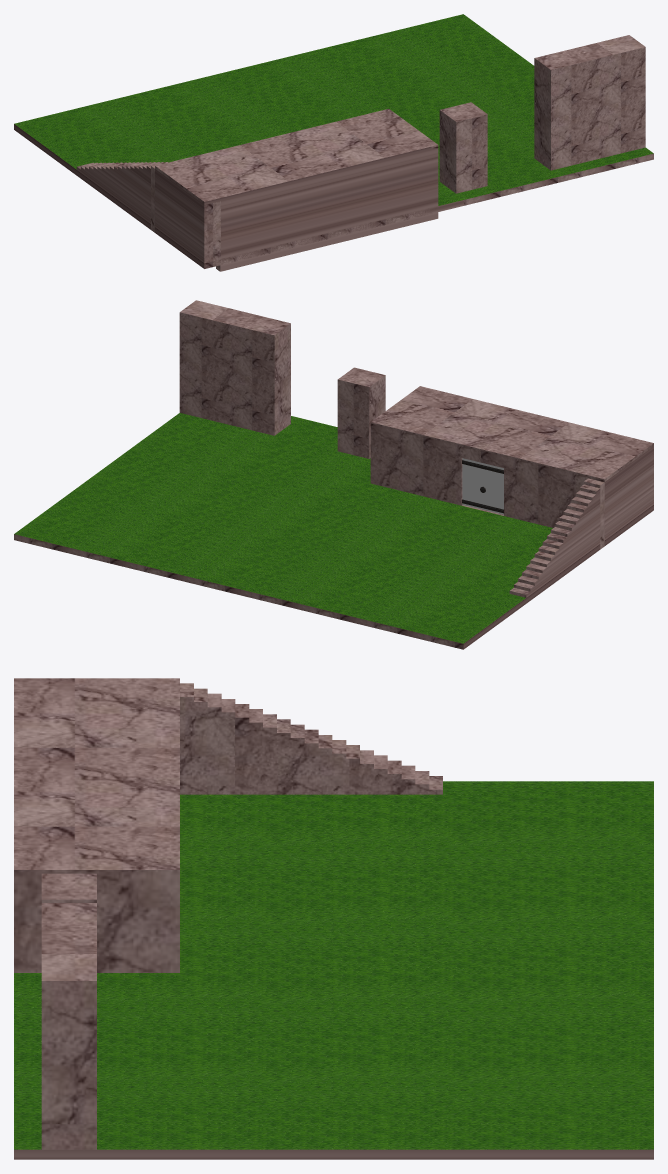
3 renders of one model, top to bottom at view 1: azimuth 30°, elevation 25°; view 2: azimuth 150°, elevation 25°; view 3: azimuth 270°, elevation 25°, orthographic. The views are drawn at different scales.
Visible parts, largest first — view 1: Floor, World; view 2: Floor, World, Door; view 3: Floor, World.
Part boxes in pixels (x1,y1,x2,y2): Floor: [14, 14, 653, 205]; World: [14, 124, 653, 271]; Floor: [14, 300, 653, 643]; World: [14, 422, 653, 649]; Door: [462, 458, 503, 514]; Floor: [14, 678, 653, 1149]; World: [14, 697, 653, 1159].
Bounding box in the file's own units: 15751 × 3784 × 11559.
